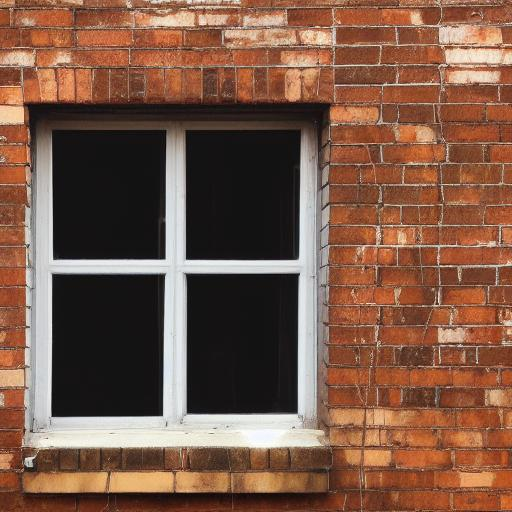Window: (21, 70, 335, 498)
